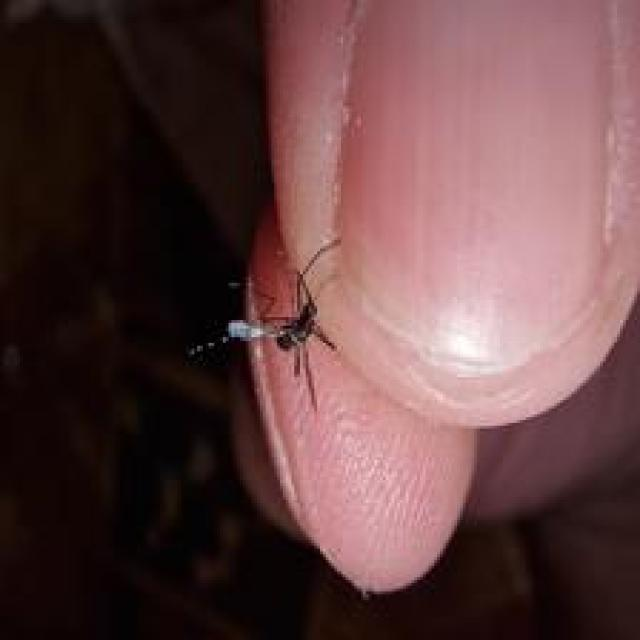Aedes albopictus: (185, 236, 342, 413)
